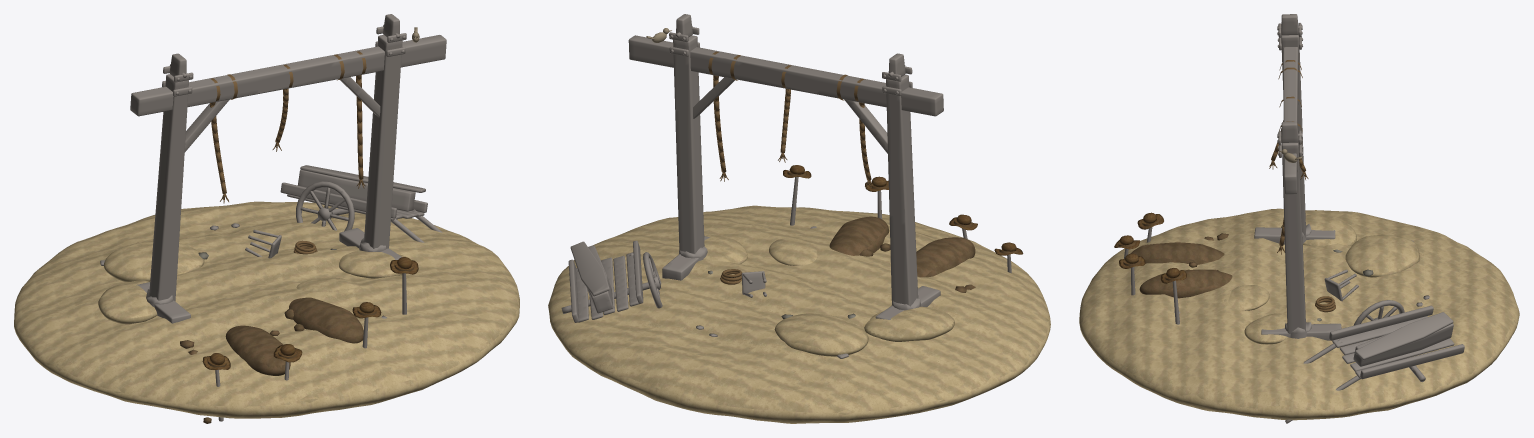
Rendered from gallows.glb.
The picture shows the model from 3 angles, left to right: view 1: azimuth 30°, elevation 25°; view 2: azimuth 150°, elevation 25°; view 3: azimuth 270°, elevation 25°; orthographic projection. The views are drawn at different scales.
Parts seen in each view (by area): view 1: gallows; view 2: gallows; view 3: gallows.
Part boxes in pixels (box(x1,y1,x2,y2)): gallows: box(14, 14, 519, 423); gallows: box(548, 14, 1050, 423); gallows: box(1079, 14, 1519, 423).
Bounding box in the file's own units: 7.97 × 5.35 × 7.35.
7 materials, 7 textured.
